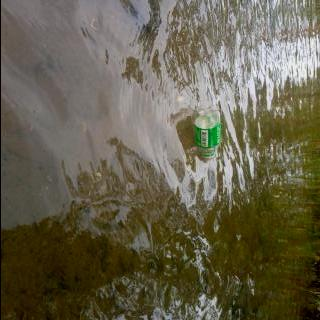bottle: (192, 104, 222, 161)
